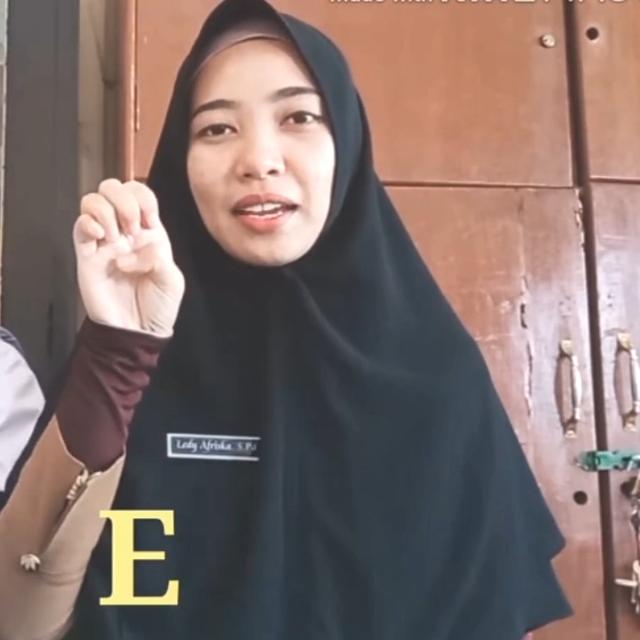E: (74, 175, 186, 341)
